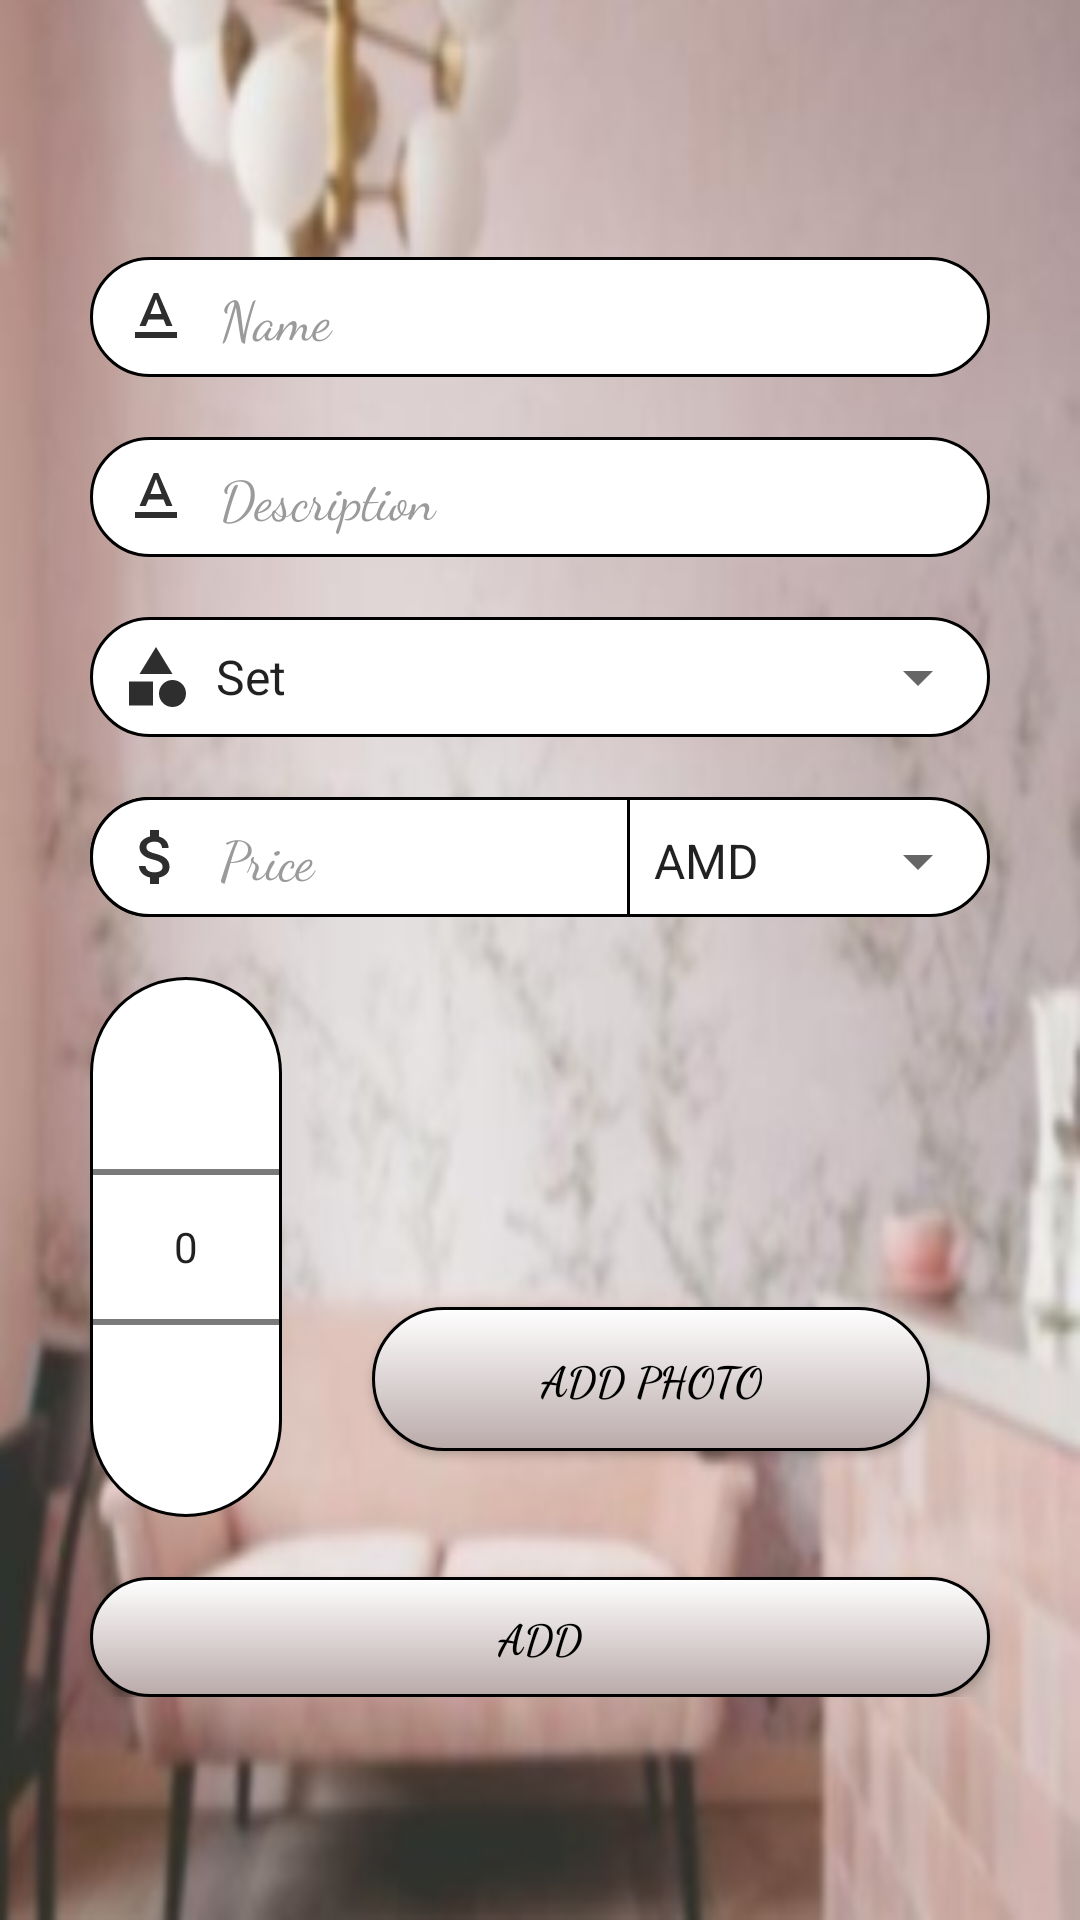

Where icons sit on this 1080*1920 app screen, as (x1, y1, x2, y2):
category: (129, 647, 186, 707)
